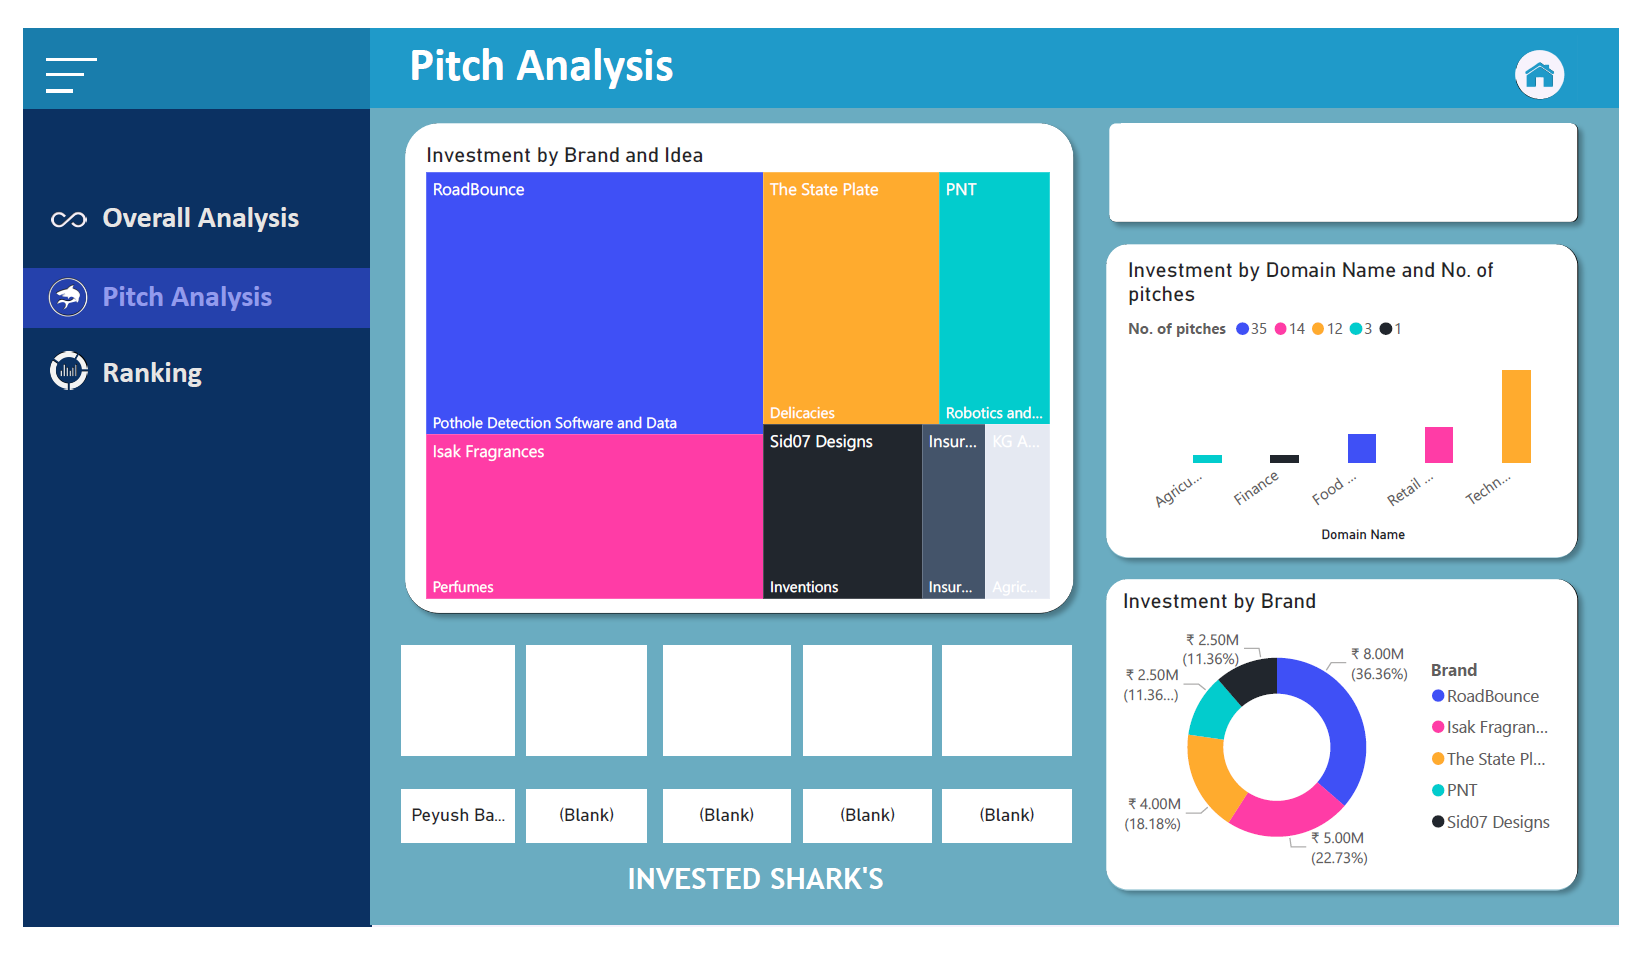

The dashboard page shown, as its layout file describes it:
{"tool":"powerbi","page":{"name":"Pitch analysis  ","canvas":[1280,720],"ordinal":3},"visuals":[{"type":"ribbonChart","title":"Domain wise Analysis","fields":{"Category":["Domain.Domain Name"],"Y":["Sum(Domain.No. of pitches)"]},"box":[288.2,149.5,572.9,511.4],"z":0},{"type":"donutChart","title":"Shark''s Investment Analysis","fields":{"Category":["Sharks.Name of sharks"],"Y":["Sum(Sharks.Total Companies  (Numbers))"]},"box":[682.6,177.2,575.5,512.3],"z":1000},{"type":"actionButton","box":[0,38.5,57.7,52.2],"z":2000},{"type":"actionButton","box":[0,111.2,57.7,52.2],"z":3000},{"type":"actionButton","box":[0,188.2,57.7,52.2],"z":4000},{"type":"actionButton","box":[0,265.1,57.7,52.2],"z":5000},{"type":"card","fields":{"Values":["Sum(Domain.No. of pitches)"]},"box":[303.5,390,129.1,86.5],"z":6000},{"type":"card","fields":{"Values":["Sum(Sharks.Total Investment  (Numbers))"]},"box":[891.3,377.7,157.9,111.2],"z":7000},{"type":"textbox","box":[102.8,154.2,1177.8,137.5],"z":8000},{"type":"shape","box":[0,0,278.8,719.7],"z":9000},{"type":"shape","box":[278.3,0,1002.2,64.4],"z":10000},{"type":"shape","box":[277.7,0,1001.9,64.1],"z":11000},{"type":"shape","box":[0,0,278.6,63.9],"z":12000},{"type":"shape","box":[18.1,0,39.8,49.4],"z":13000},{"type":"shape","box":[18.2,12,30.2,49.5],"z":14000},{"type":"shape","box":[18.1,25.3,20.5,49.4],"z":15000},{"type":"textbox","box":[57.5,131.1,188.7,44.3],"z":16000},{"type":"textbox","box":[57.5,194.3,188.7,44.3],"z":17000},{"type":"textbox","box":[58.5,254.7,188.7,44.3],"z":18000},{"type":"image","box":[16.9,131.5,38.6,43.4],"z":19000},{"type":"image","box":[16,249.1,39.6,50],"z":20000},{"type":"shape","box":[0,192.3,278.2,47.4],"z":21000},{"type":"image","box":[13.3,190.6,44.6,49.4],"z":22000},{"type":"shape","box":[277.8,63.9,1002.8,655.6],"z":23000},{"type":"image","box":[1186.1,0,70.8,62.5],"z":24000},{"type":"PBI_CV_81BBAD08_3ADD_466C_8819_9FACA21A6B8F","fields":{"imageUrl":["Pitches.Shark 1 Image"]},"box":[302.6,494.9,91,88.5],"z":25000},{"type":"PBI_CV_81BBAD08_3ADD_466C_8819_9FACA21A6B8F","fields":{"imageUrl":["Pitches.Shark 2 Image"]},"box":[402.6,494.9,97.4,88.5],"z":26000},{"type":"PBI_CV_81BBAD08_3ADD_466C_8819_9FACA21A6B8F","fields":{"imageUrl":["Pitches.Shark 3 Image"]},"box":[512.8,494.9,102.6,88.5],"z":27000},{"type":"PBI_CV_81BBAD08_3ADD_466C_8819_9FACA21A6B8F","fields":{"imageUrl":["Pitches.Shark 4 Image"]},"box":[625.6,494.9,102.6,88.5],"z":28000},{"type":"shape","box":[861.5,66.7,394.9,97.4],"z":29000},{"type":"PBI_CV_81BBAD08_3ADD_466C_8819_9FACA21A6B8F","fields":{"imageUrl":["Pitches.Shark 5 Image"]},"box":[737.2,494.9,103.8,88.5],"z":30000},{"type":"card","fields":{"Values":["Min(Pitches.Shark 2)"]},"box":[402.6,610.3,97.4,42.3],"z":31000},{"type":"card","fields":{"Values":["Min(Pitches.Shark 3)"]},"box":[512.8,610.3,102.6,42.3],"z":32000},{"type":"card","fields":{"Values":["Min(Pitches.Shark 5)"]},"box":[737.2,610.3,103.8,42.3],"z":33000},{"type":"card","fields":{"Values":["Min(Pitches.Shark 4)"]},"box":[625.6,610.3,102.6,42.3],"z":34000},{"type":"textbox","box":[437.2,661.5,300,38.5],"z":35000},{"type":"SmartFilterBySQLBI1458262140625","fields":{"Values":["Pitches.Name of sharks"]},"box":[880.8,75.6,360.3,78.2],"z":36000},{"type":"card","fields":{"Values":["Min(Pitches.Shark 1)"]},"box":[302.6,610.3,91,42.3],"z":37000},{"type":"shape","box":[860.3,164.1,396.2,269.2],"z":38000},{"type":"shape","box":[860.3,433.3,396.2,266.7],"z":39000},{"type":"donutChart","fields":{"Category":["Pitches.Brand"],"Y":["Sum(Pitches.Investment)"]},"box":[876.9,448.7,364.1,235.9],"z":40000},{"type":"ribbonChart","fields":{"Category":["Domain.Domain Name"],"Y":["Sum(Pitches.Investment)"],"Series":["Domain.No. of pitches"]},"box":[880.8,183.3,360.3,233.3],"z":41000},{"type":"shape","box":[297.4,66.7,553.8,411.5],"z":42000},{"type":"treemap","fields":{"Group":["Pitches.Brand","Pitches.Domain","Pitches.Equity"],"Details":["Pitches.Idea"],"Values":["Sum(Pitches.Investment)"]},"box":[317.9,91,510.3,370.5],"z":43000},{"type":"textbox","box":[303.8,0,309,64.1],"z":44000}]}

Visuals, with their boxes on the page's 1280x720 design canvas (x1, y1, x2, y2). These are canvas units, not pixel positions in the 1646x955 screenshot, which may show the page scaled, cropped or inside an application window:
"Domain wise Analysis" ribbonChart: detection(288, 150, 861, 661)
"Shark''s Investment Analysis" donutChart: detection(683, 177, 1258, 690)
actionButton: detection(0, 38, 58, 91)
actionButton: detection(0, 111, 58, 163)
actionButton: detection(0, 188, 58, 240)
actionButton: detection(0, 265, 58, 317)
card - Sum(Domain.No. of pitches): detection(304, 390, 433, 476)
card - Sum(Sharks.Total Investment  (Numbers)): detection(891, 378, 1049, 489)
textbox: detection(103, 154, 1281, 292)
shape: detection(0, 0, 279, 720)
shape: detection(278, 0, 1280, 64)
shape: detection(278, 0, 1280, 64)
shape: detection(0, 0, 279, 64)
shape: detection(18, 0, 58, 49)
shape: detection(18, 12, 48, 62)
shape: detection(18, 25, 39, 75)
textbox: detection(58, 131, 246, 175)
textbox: detection(58, 194, 246, 239)
textbox: detection(58, 255, 247, 299)
image: detection(17, 132, 56, 175)
image: detection(16, 249, 56, 299)
shape: detection(0, 192, 278, 240)
image: detection(13, 191, 58, 240)
shape: detection(278, 64, 1281, 720)
image: detection(1186, 0, 1257, 62)
PBI_CV_81BBAD08_3ADD_466C_8819_9FACA21A6B8F - Pitches.Shark 1 Image: detection(303, 495, 394, 583)
PBI_CV_81BBAD08_3ADD_466C_8819_9FACA21A6B8F - Pitches.Shark 2 Image: detection(403, 495, 500, 583)
PBI_CV_81BBAD08_3ADD_466C_8819_9FACA21A6B8F - Pitches.Shark 3 Image: detection(513, 495, 615, 583)
PBI_CV_81BBAD08_3ADD_466C_8819_9FACA21A6B8F - Pitches.Shark 4 Image: detection(626, 495, 728, 583)
shape: detection(862, 67, 1256, 164)
PBI_CV_81BBAD08_3ADD_466C_8819_9FACA21A6B8F - Pitches.Shark 5 Image: detection(737, 495, 841, 583)
card - Min(Pitches.Shark 2): detection(403, 610, 500, 653)
card - Min(Pitches.Shark 3): detection(513, 610, 615, 653)
card - Min(Pitches.Shark 5): detection(737, 610, 841, 653)
card - Min(Pitches.Shark 4): detection(626, 610, 728, 653)
textbox: detection(437, 662, 737, 700)
SmartFilterBySQLBI1458262140625 - Pitches.Name of sharks: detection(881, 76, 1241, 154)
card - Min(Pitches.Shark 1): detection(303, 610, 394, 653)
shape: detection(860, 164, 1256, 433)
shape: detection(860, 433, 1256, 700)
donutChart - Pitches.Brand x Sum(Pitches.Investment): detection(877, 449, 1241, 685)
ribbonChart - Domain.Domain Name x Sum(Pitches.Investment): detection(881, 183, 1241, 417)
shape: detection(297, 67, 851, 478)
treemap - Pitches.Brand x Pitches.Domain: detection(318, 91, 828, 462)
textbox: detection(304, 0, 613, 64)
